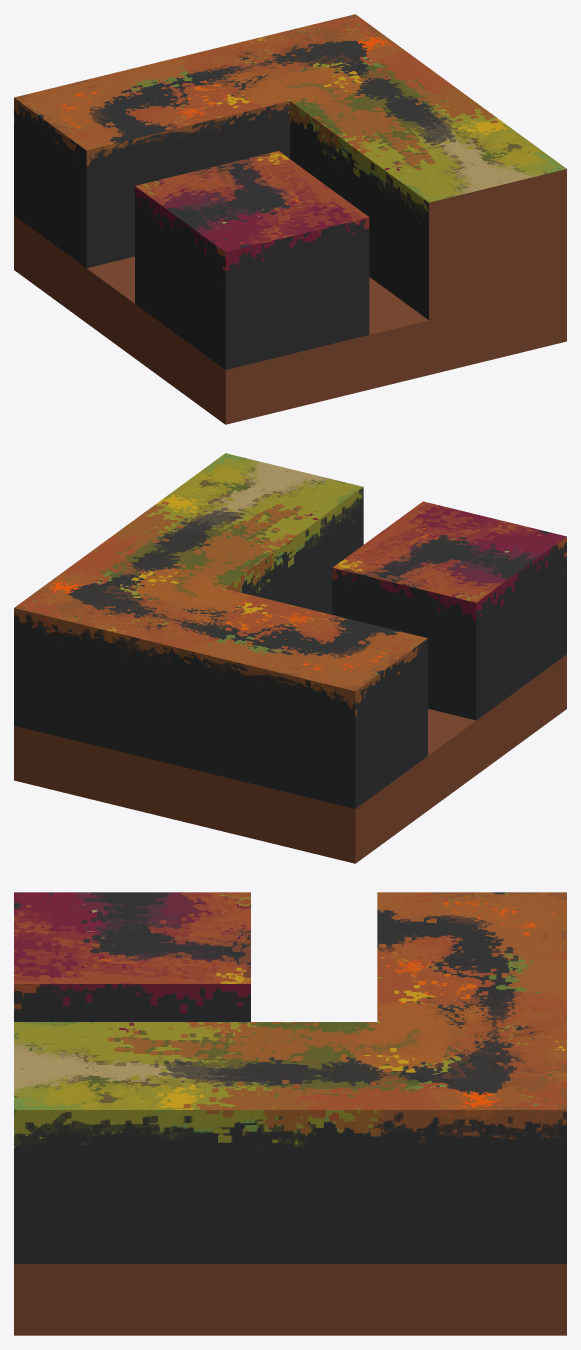
File: level1p2.fbx
3 views of the same model, one above another, from view 1: azimuth 30°, elevation 25°; view 2: azimuth 150°, elevation 25°; view 3: azimuth 270°, elevation 25° (orthographic). The views are drawn at different scales.
Visible parts, largest first — view 1: BoxBrush; view 2: BoxBrush; view 3: BoxBrush.
Part boxes in pixels (x1,y1,x2,y2): BoxBrush: (14, 14, 566, 424); BoxBrush: (14, 453, 566, 863); BoxBrush: (14, 892, 566, 1335).
Size of the model in its own units: 13050 by 6300 by 14000.
1 material, 1 textured.
